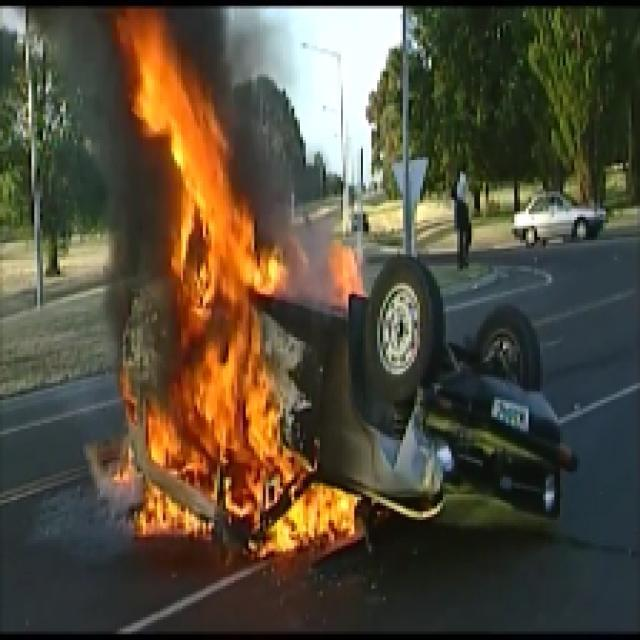Fire: (97, 3, 406, 560)
Smoke: (0, 8, 183, 286)
